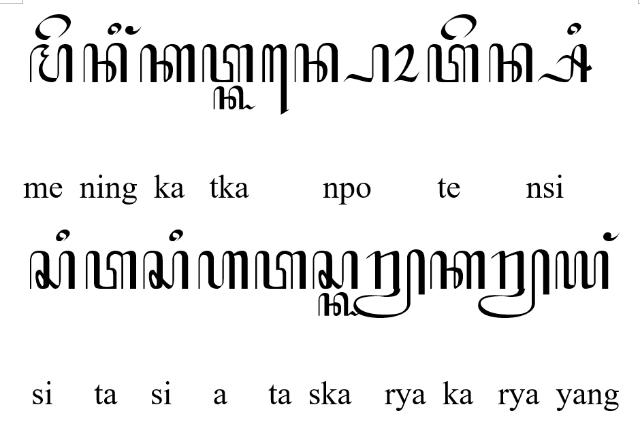_k: (212, 85, 255, 110), (318, 292, 362, 316)
_p: (342, 42, 391, 84)
_s: (536, 42, 592, 84)
e: (34, 12, 72, 40), (440, 14, 478, 40)
e1: (262, 44, 290, 116)
h: (198, 250, 248, 290)
i: (566, 20, 582, 36), (55, 228, 71, 242), (168, 229, 184, 243), (108, 22, 122, 36)
k: (140, 43, 197, 83), (430, 250, 486, 290)
m: (28, 43, 74, 83)
n: (82, 42, 128, 84), (293, 42, 339, 84), (488, 43, 532, 85)
ng: (125, 25, 143, 37), (604, 232, 620, 243)
o: (394, 43, 420, 83)
ry: (354, 250, 426, 320), (478, 249, 550, 319)
s: (311, 249, 359, 291), (28, 250, 76, 290), (142, 251, 190, 291)
t: (84, 250, 138, 292), (201, 42, 253, 84), (254, 250, 306, 292), (426, 43, 480, 83)
y: (555, 250, 609, 290)
